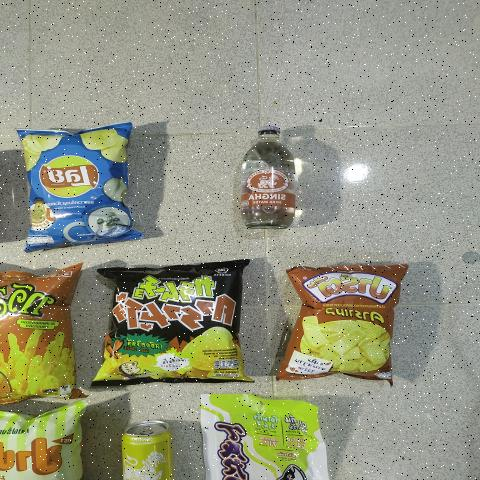karamujo: (101, 265, 251, 378)
lay_blue: (23, 136, 130, 236)
party_red: (290, 268, 403, 378)
singha_soda: (238, 118, 299, 233)
singha_yellow: (119, 420, 181, 480)
taro_yellow: (208, 401, 316, 480)
twisco: (0, 272, 70, 403)
